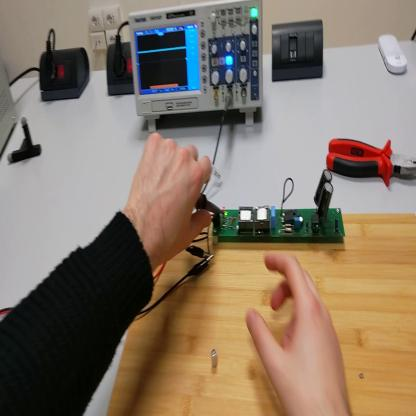hand: (248, 249, 349, 416), (128, 135, 214, 269)
high voltage board: (208, 163, 350, 245)
oscilloscope: (129, 2, 265, 135)
oscilloscope probe tip: (198, 195, 227, 217)
pliers: (328, 134, 416, 188)
power supply: (1, 52, 20, 161)
socket: (40, 49, 92, 104), (106, 41, 135, 100)
working area: (109, 203, 416, 414)
